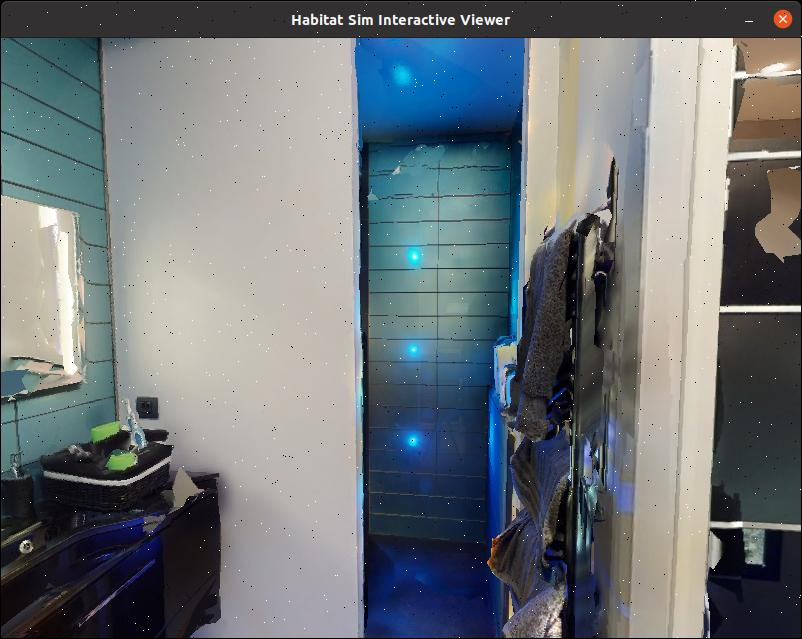door-frame: (343, 65, 540, 635)
